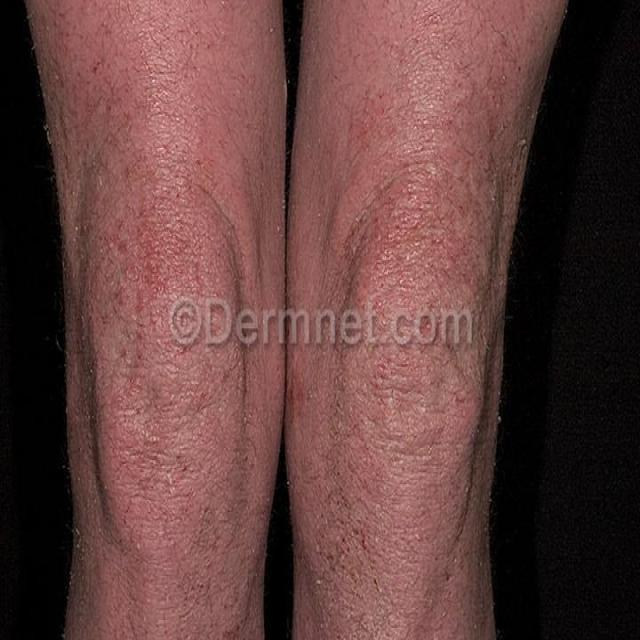Eczema: (420, 93, 532, 323), (35, 40, 103, 329)
